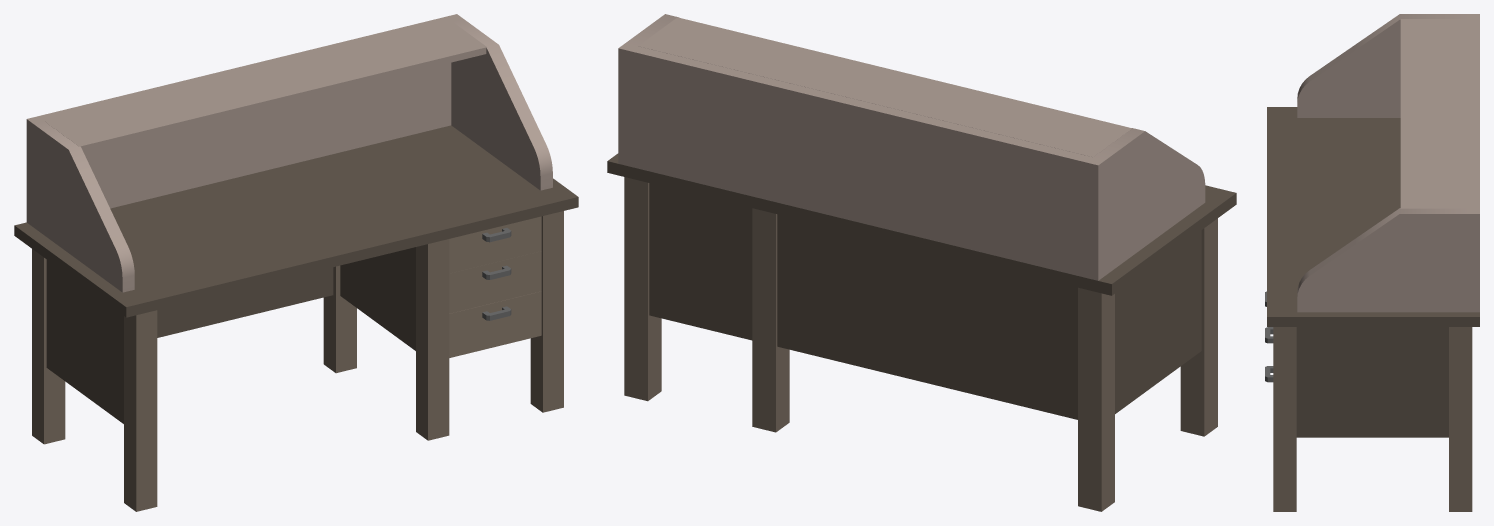
File: Hidden_Desk.fbx
3 views of the same model, side by side, from view 1: azimuth 30°, elevation 25°; view 2: azimuth 150°, elevation 25°; view 3: azimuth 270°, elevation 25° (orthographic). The views are drawn at different scales.
Visible parts, largest first — view 1: pCube278; view 2: pCube278; view 3: pCube278.
Boxes of the visible parts, x1=… form: pCube278: x1=14, y1=14, x2=578, y2=511; pCube278: x1=607, y1=14, x2=1236, y2=511; pCube278: x1=1265, y1=14, x2=1479, y2=511.
Bounding box in the file's own units: 21.37 × 14.18 × 9.24.
